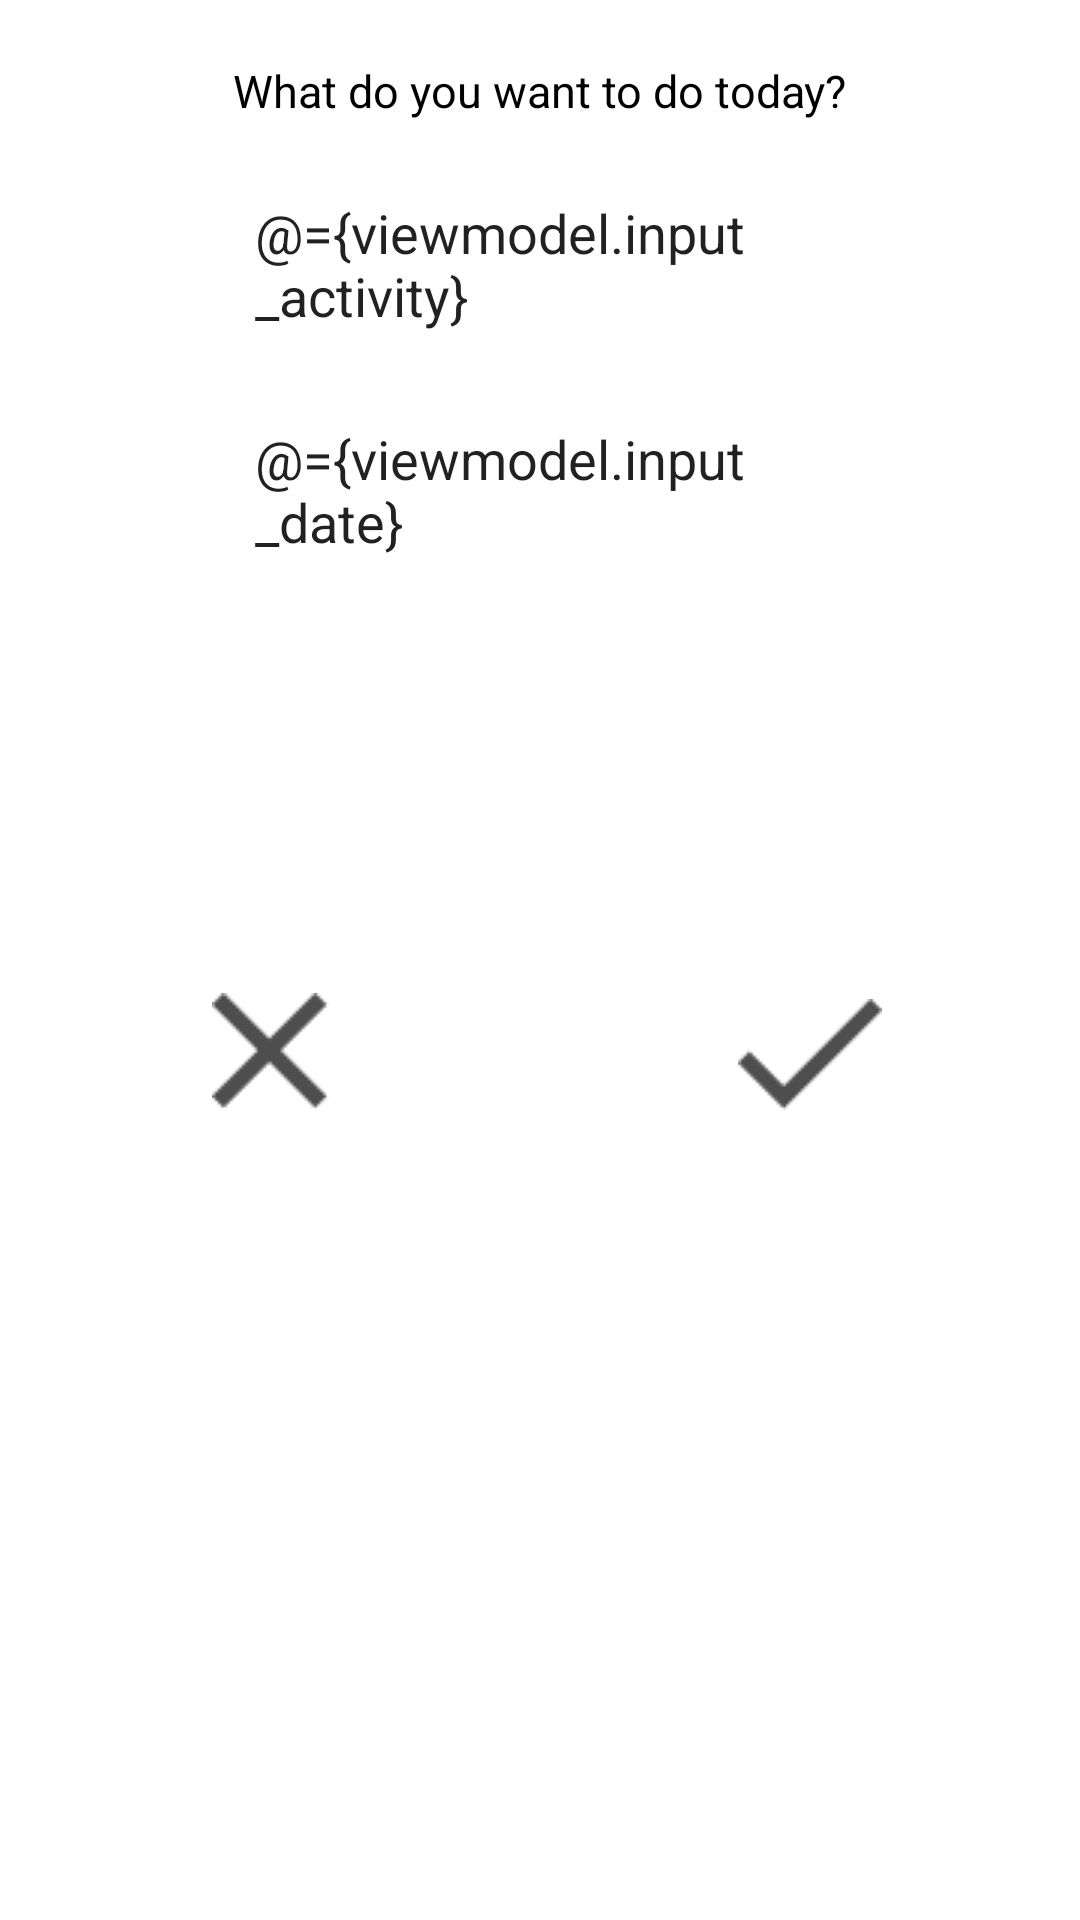

Icons on this 1080*1920 Android screen, each with the point to tap as (x,y):
close: (269,1050)
done: (810,1054)
